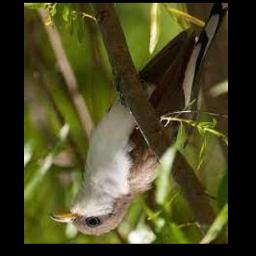Cuckoo: (49, 5, 227, 236)
